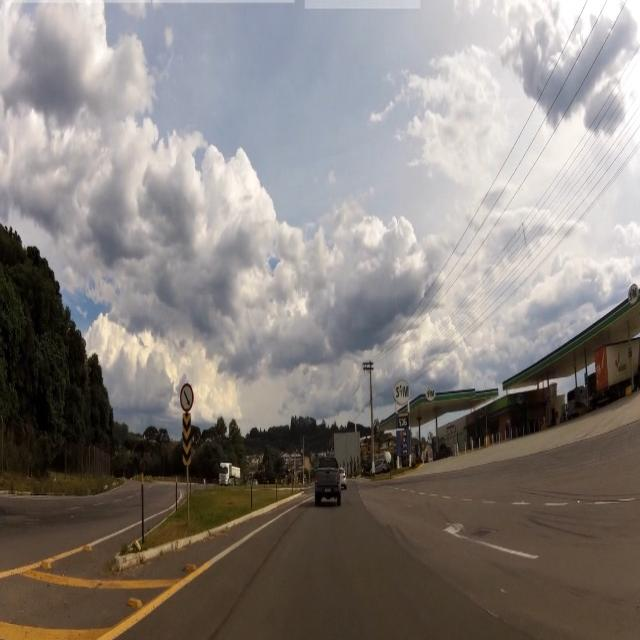MP: (180, 411, 194, 469)
R-24b: (179, 378, 197, 413)
